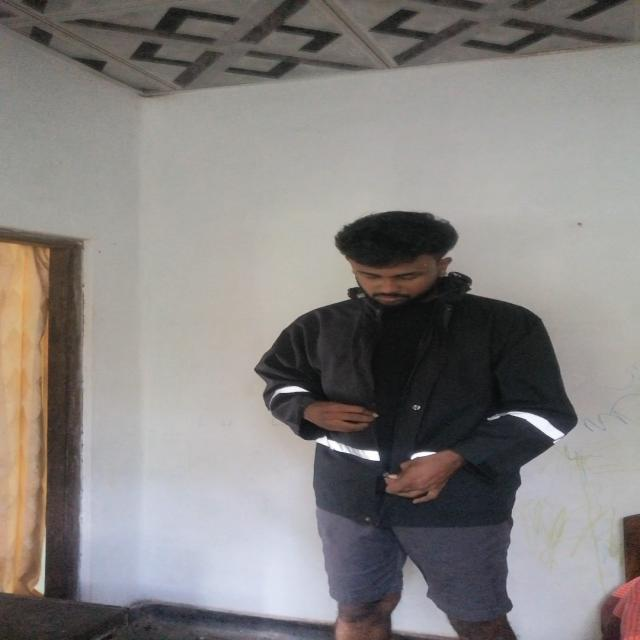Jacket_Wearer: (237, 284, 587, 524)
